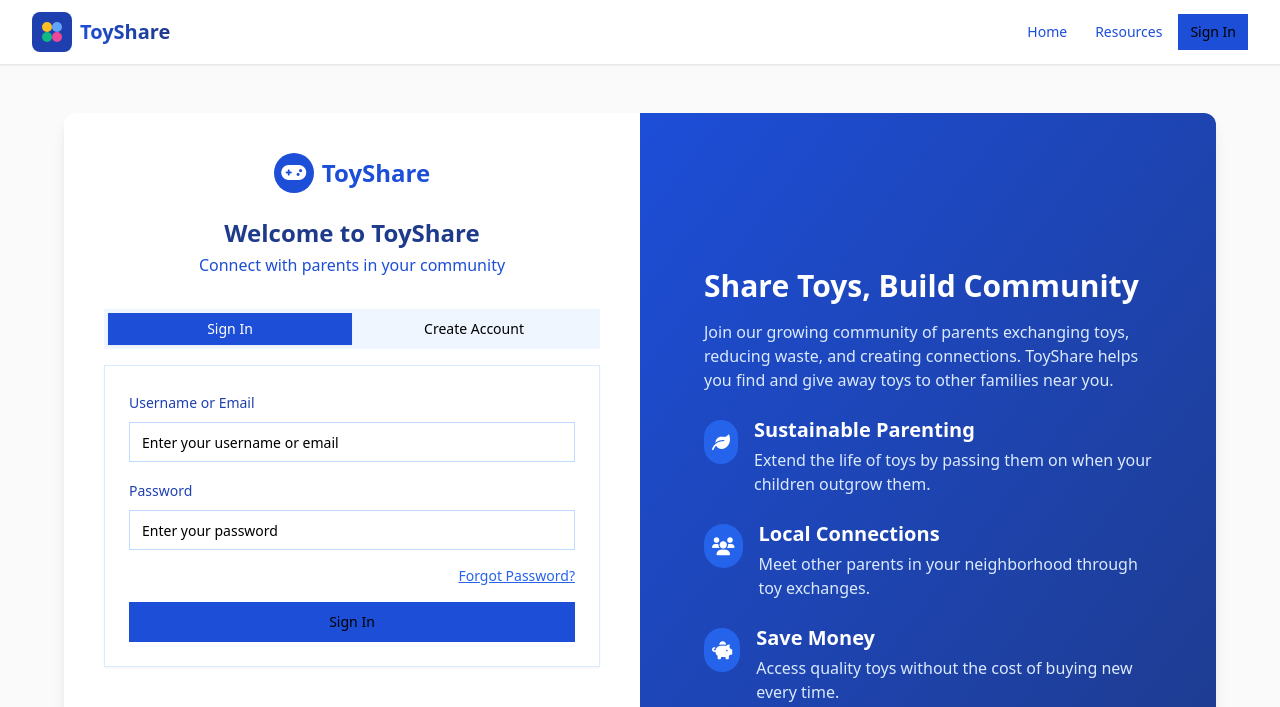
Authentication Tests › Shows error for invalid credentials
The image size is (1280, 707).
Type "nonexistent@user.com" into the field named "username". click: (352, 442)
box: [129,422,575,462]
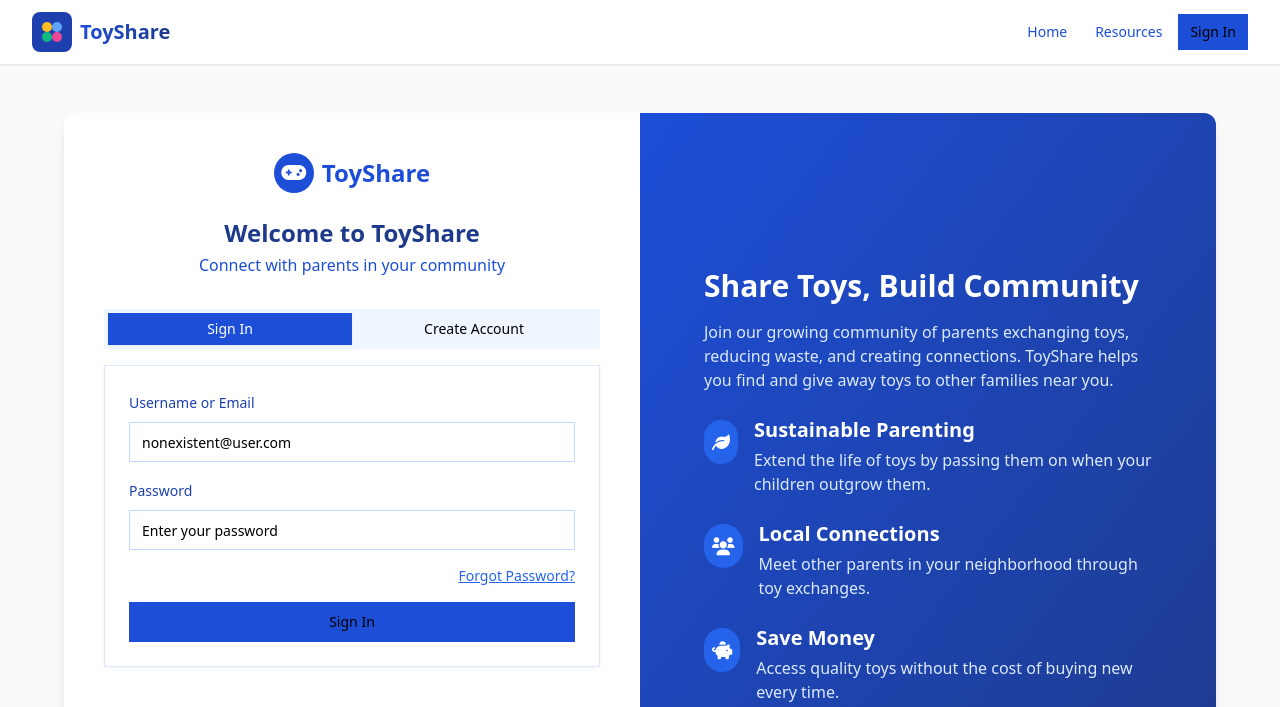
Type "wrongpassword" into the password field named "password". click: (352, 530)
box: [129,510,575,550]
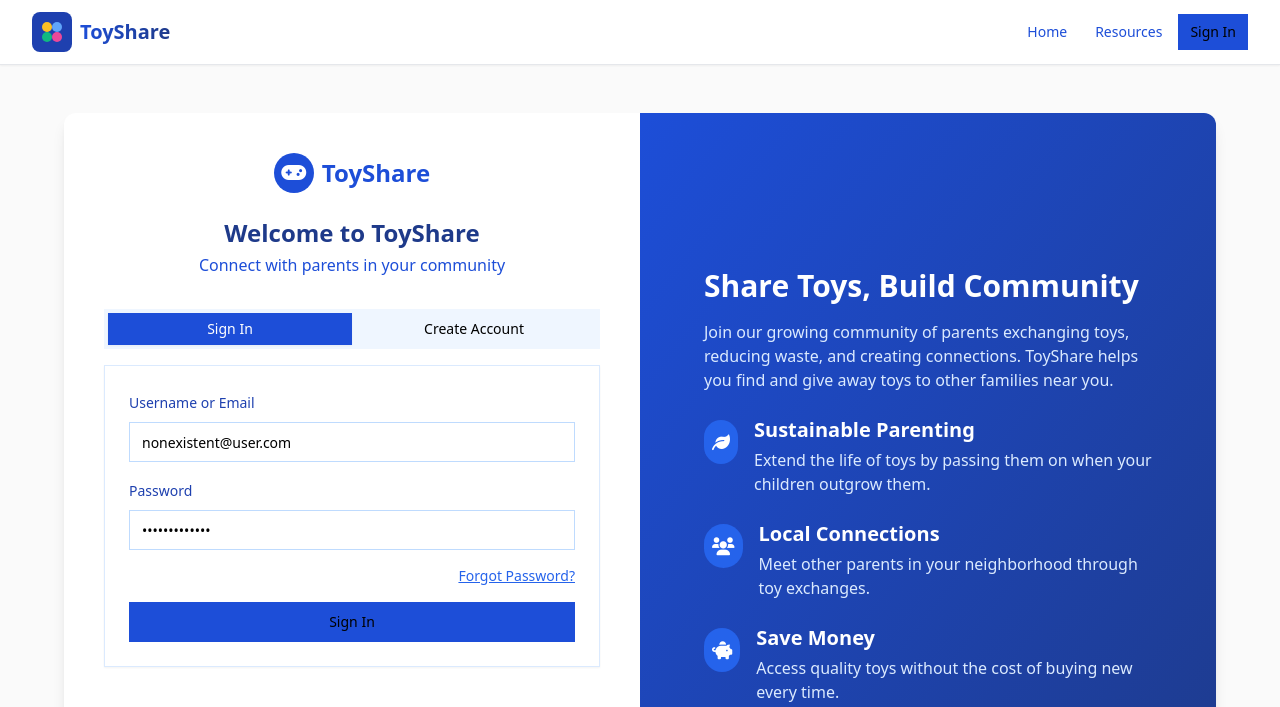
Click the button "Sign In" below "Forgot Password?". click: click(352, 622)
box: [129,602,575,642]
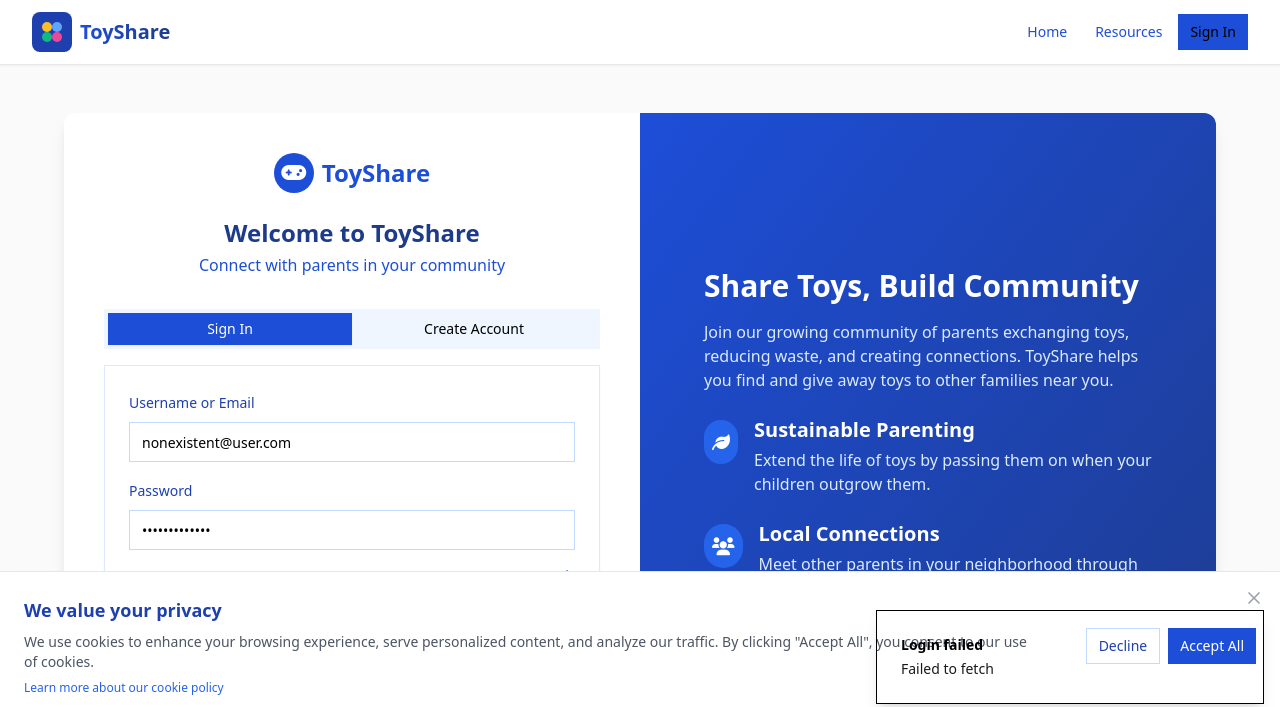
Expected: the text "Login failed" is shown, [901,635,994,655]
